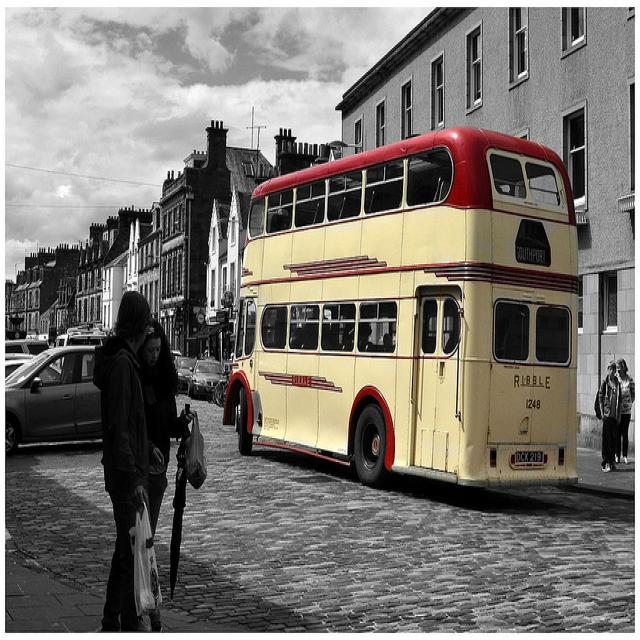Vehicle: (222, 126, 578, 491), (7, 346, 99, 456), (187, 359, 224, 401), (64, 326, 106, 346), (175, 358, 198, 393), (4, 340, 50, 356), (4, 357, 29, 376)
